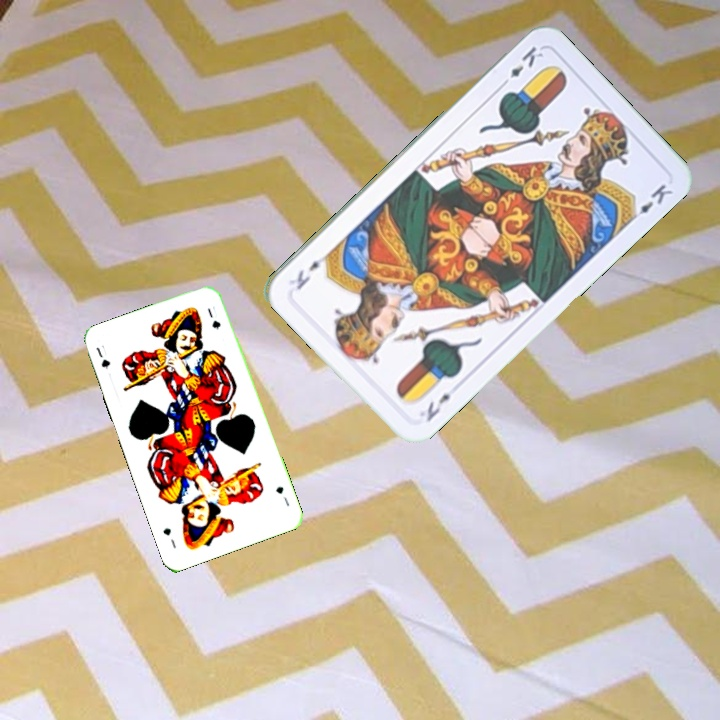EK: (496, 42, 546, 90), (415, 389, 454, 425)
GU: (92, 341, 113, 371), (272, 482, 292, 509)
